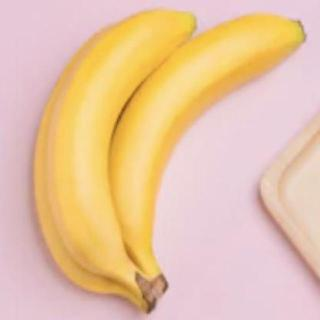banana: (103, 11, 309, 253), (41, 8, 198, 272)
